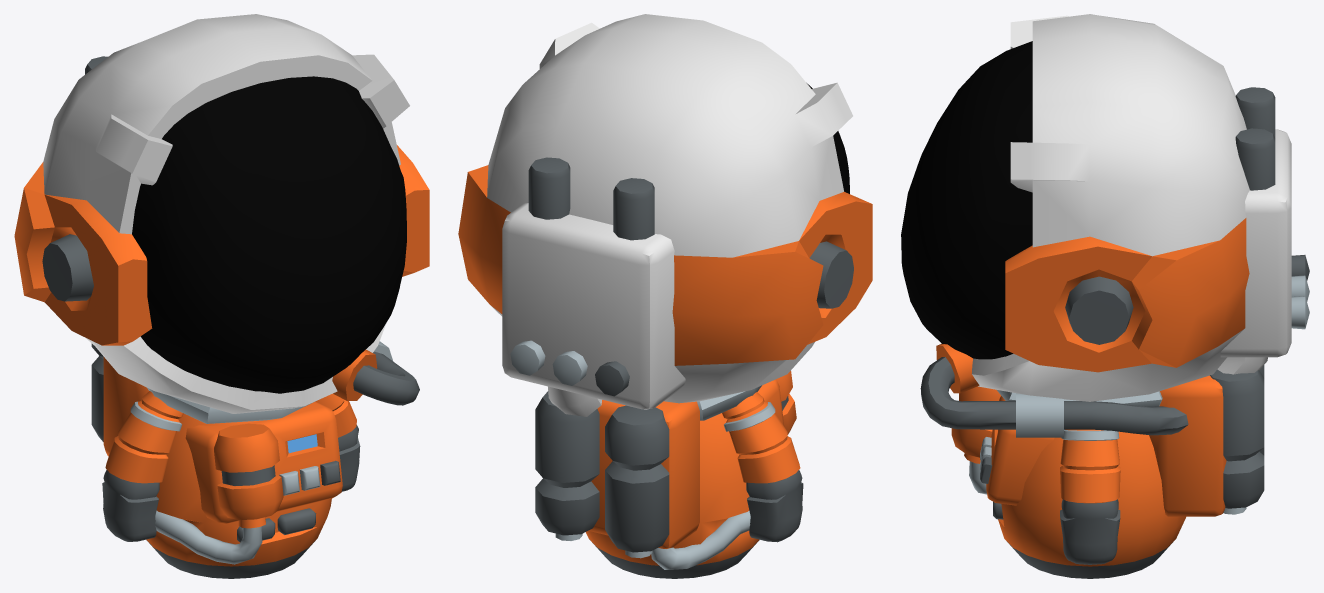
Rendered from character_astronaut_B.gltf.
3 renders of one model, left to right at view 1: azimuth 30°, elevation 25°; view 2: azimuth 150°, elevation 25°; view 3: azimuth 270°, elevation 25°, orthographic.
Parts seen in each view (by area): view 1: character_astronaut_helmet_B, character_astronaut_body_B, character_astronaut_armRight_B, character_astronaut_backpack_B, character_astronaut_armLeft_B; view 2: character_astronaut_helmet_B, character_astronaut_backpack_B, character_astronaut_body_B, character_astronaut_armRight_B; view 3: character_astronaut_helmet_B, character_astronaut_body_B, character_astronaut_backpack_B, character_astronaut_armLeft_B.
Boxes of the visible parts, x1,y1,x2,y2 form: character_astronaut_helmet_B: [14, 14, 429, 423]; character_astronaut_body_B: [146, 401, 342, 578]; character_astronaut_armRight_B: [102, 391, 183, 541]; character_astronaut_backpack_B: [91, 343, 148, 456]; character_astronaut_armLeft_B: [315, 393, 360, 491]; character_astronaut_helmet_B: [458, 14, 872, 420]; character_astronaut_backpack_B: [535, 391, 699, 558]; character_astronaut_body_B: [586, 371, 796, 578]; character_astronaut_armRight_B: [722, 392, 803, 542]; character_astronaut_helmet_B: [901, 14, 1309, 437]; character_astronaut_body_B: [951, 386, 1185, 578]; character_astronaut_backpack_B: [1149, 365, 1264, 516]; character_astronaut_armLeft_B: [1060, 429, 1120, 564].
Size of the model in its own units: 1.36 by 1.93 by 1.39.
